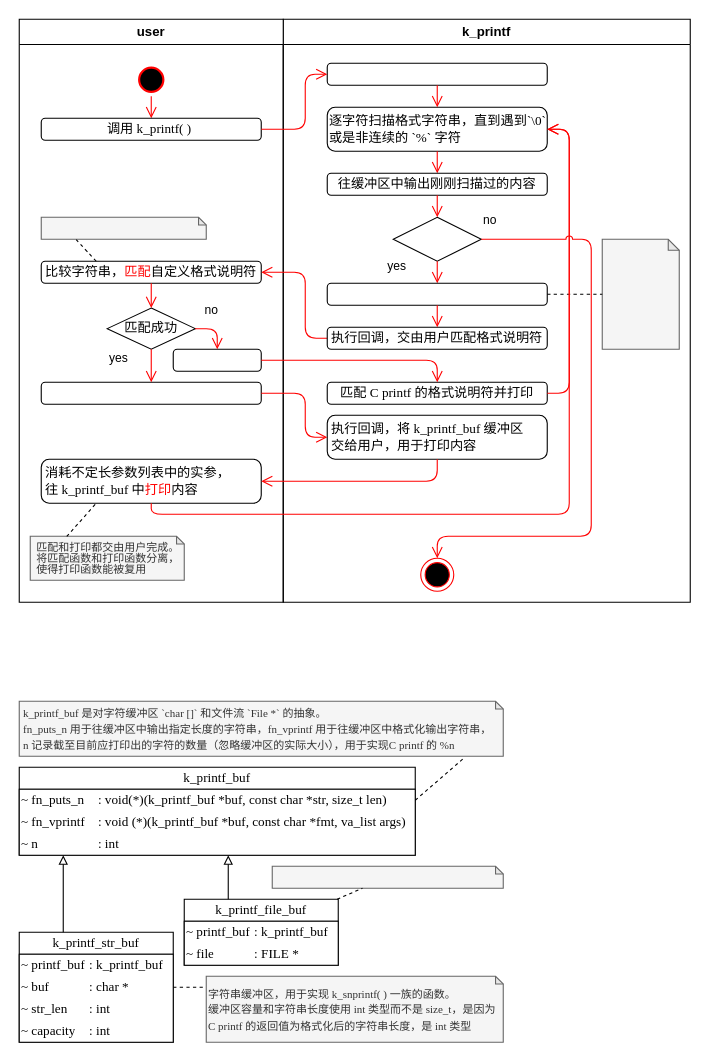
Image size: 710x1062. Some labels were removed from this diagram. The shapes that lost their labels are listed below. From the top down, each one's centre as x and y in pixels, then its label:
the point at 436,73: 初始化 k_printf_buf 缓冲区
the point at 123,227: 可重载 C printf 的格式说明符
the point at 436,238: 遇到 `%`
the point at 436,293: 提取格式说明符的修饰部分
the point at 640,293: `-` 左对齐 `+` 显示符号 ` ` 空格填充 `0` 零填充 `#` 特殊格式 `*` 最小宽度 `.*` 精度
the point at 216,359: 返回 `NULL`
the point at 150,392: 返回打印该格式说明符的函数的指针
the point at 387,876: 文件缓冲区，用于实现 k_fprintf( ) 一族的函数
